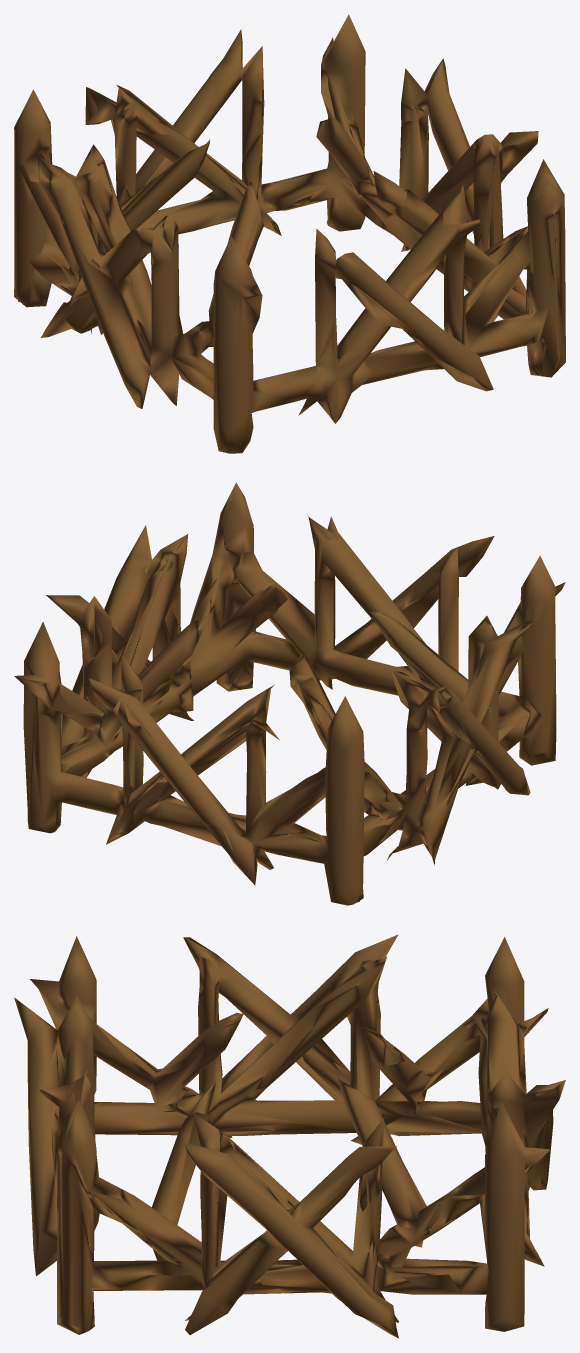
File: gen3d-wooden-barricade-lod0.glb
3 views of the same model, one above another, from view 1: azimuth 30°, elevation 25°; view 2: azimuth 150°, elevation 25°; view 3: azimuth 270°, elevation 25° (orthographic). The views are drawn at different scales.
Visible parts, largest first — view 1: part_0; view 2: part_0; view 3: part_0.
Part boxes in pixels (left/top/right/bottom): part_0: left=14, top=14, right=565, bottom=453; part_0: left=14, top=482, right=565, bottom=905; part_0: left=14, top=934, right=565, bottom=1338.
Size of the model in its own units: 2.04 by 0.9999 by 2.2.
